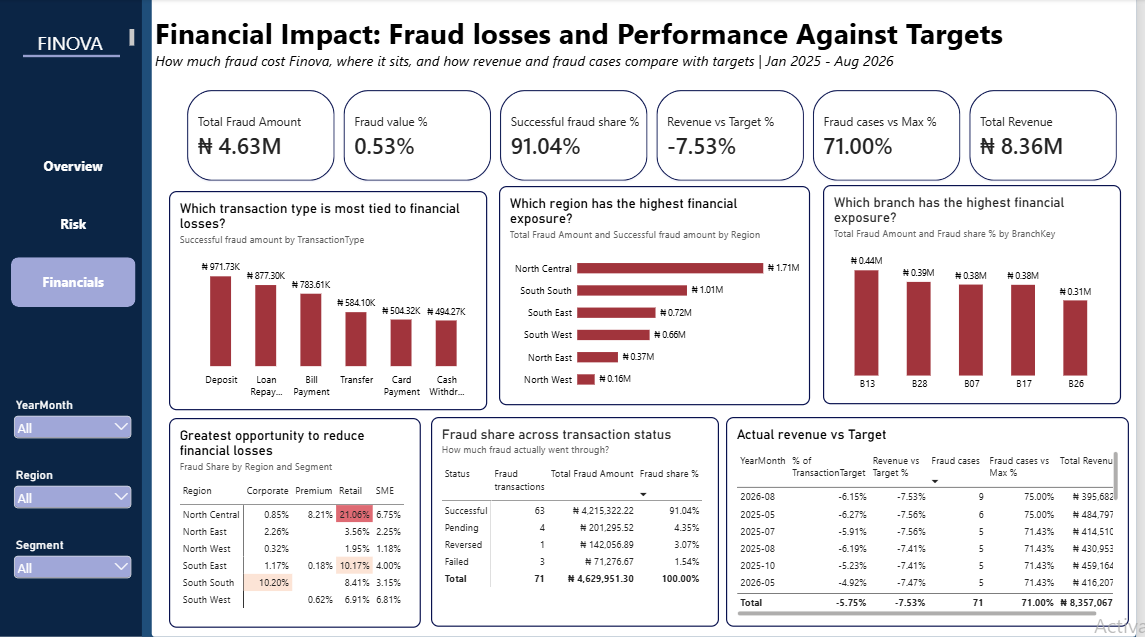

The dashboard page shown, as its layout file describes it:
{"tool":"powerbi","page":{"name":"Financials","canvas":[1920,1080],"ordinal":2},"visuals":[{"type":"cardVisual","fields":{"Data":["Measuress.Fraud Amount","Measuress.Fraud Amount %","Measuress.Successful fraud share %","Measuress.Revenue vs Target %","Measuress.Fraud cases vs Max %","Measuress.Total Revenue"]},"box":[313.5,149.6,1579.8,160.3],"z":0},{"type":"textbox","box":[263.2,23.6,1512,126.6],"z":1000},{"type":"clusteredColumnChart","title":"Which transaction type is most tied to financial losses?","fields":{"Category":["Dim_TransactionType.TransactionType"],"Y":["Measuress.Successful fraud amount"]},"box":[286.9,324,536.6,369.6],"z":2000},{"type":"clusteredBarChart","title":"Which region has the highest financial exposure?","fields":{"Category":["Dim_Region.Region"],"Y":["Measuress.Fraud Amount"]},"box":[843.8,315.6,524.8,369.6],"z":3000},{"type":"clusteredColumnChart","title":"Which branch has the highest financial exposure?","fields":{"Category":["Dim_Branch.BranchKey"],"Y":["Measuress.Fraud Amount"]},"box":[1391,313.5,502.9,369.6],"z":4000},{"type":"tableEx","title":"Actual revenue vs Target","fields":{"Values":["Dim_Date.YearMonth","Measuress.% of TransactionTarget","Measuress.Revenue vs Target %","Measuress.Fraud transactions","Measuress.Fraud cases vs Max %","Measuress.Total Revenue"]},"box":[1226.8,705.4,680.1,354.4],"z":5000},{"type":"pivotTable","title":"Greatest opportunity to reduce financial losses","fields":{"Columns":["Dim_CustomerSegment.Segment"],"Rows":["Dim_Region.Region"],"Values":["Measuress.Fraud share %"]},"box":[286.9,707.1,425.2,354.4],"z":6000},{"type":"pageNavigator","box":[20.2,239.6,210,280],"z":7000},{"type":"slicer","fields":{"Values":["Dim_Date.YearMonth"]},"box":[20.2,673.3,207.6,86.1],"z":8000},{"type":"slicer","fields":{"Values":["Dim_Region.Region"]},"box":[20.2,791.4,207.6,86.1],"z":9000},{"type":"slicer","fields":{"Values":["Dim_CustomerSegment.Segment"]},"box":[20.2,909.6,207.6,86.1],"z":10000},{"type":"textbox","box":[20.2,50.6,207.6,42.2],"z":11000},{"type":"shape","box":[40.5,70.9,163.7,50.6],"z":12000},{"type":"pivotTable","title":"Fraud share across transaction status","fields":{"Rows":["Fact_Transactions.Status"],"Values":["Measuress.Fraud transactions","Measuress.Total Fraud Amount","Measuress.Fraud share %"]},"box":[729,705.4,486.2,354.4],"z":12001}]}

Visuals, with their boxes on the page's 1920x1080 design canvas (x1, y1, x2, y2). These are canvas units, not pixel positions in the 1145x637 screenshot, which may show the page scaled, cropped or inside an application window:
cardVisual - Measuress.Fraud Amount x Measuress.Fraud Amount %: (314,150,1893,310)
textbox: (263,24,1775,150)
"Which transaction type is most tied to financial losses?" clusteredColumnChart: (287,324,824,694)
"Which region has the highest financial exposure?" clusteredBarChart: (844,316,1369,685)
"Which branch has the highest financial exposure?" clusteredColumnChart: (1391,314,1894,683)
"Actual revenue vs Target" tableEx: (1227,705,1907,1060)
"Greatest opportunity to reduce financial losses" pivotTable: (287,707,712,1062)
pageNavigator: (20,240,230,520)
slicer - Dim_Date.YearMonth: (20,673,228,759)
slicer - Dim_Region.Region: (20,791,228,878)
slicer - Dim_CustomerSegment.Segment: (20,910,228,996)
textbox: (20,51,228,93)
shape: (40,71,204,122)
"Fraud share across transaction status" pivotTable: (729,705,1215,1060)
